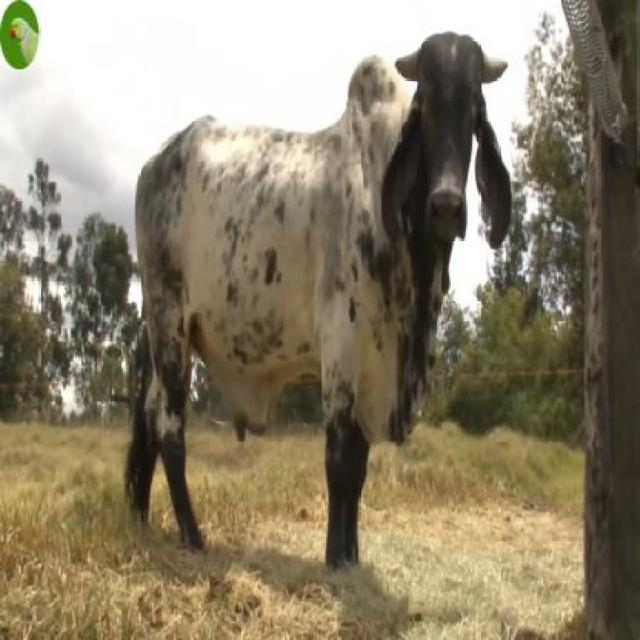Cow: (126, 28, 514, 575)
